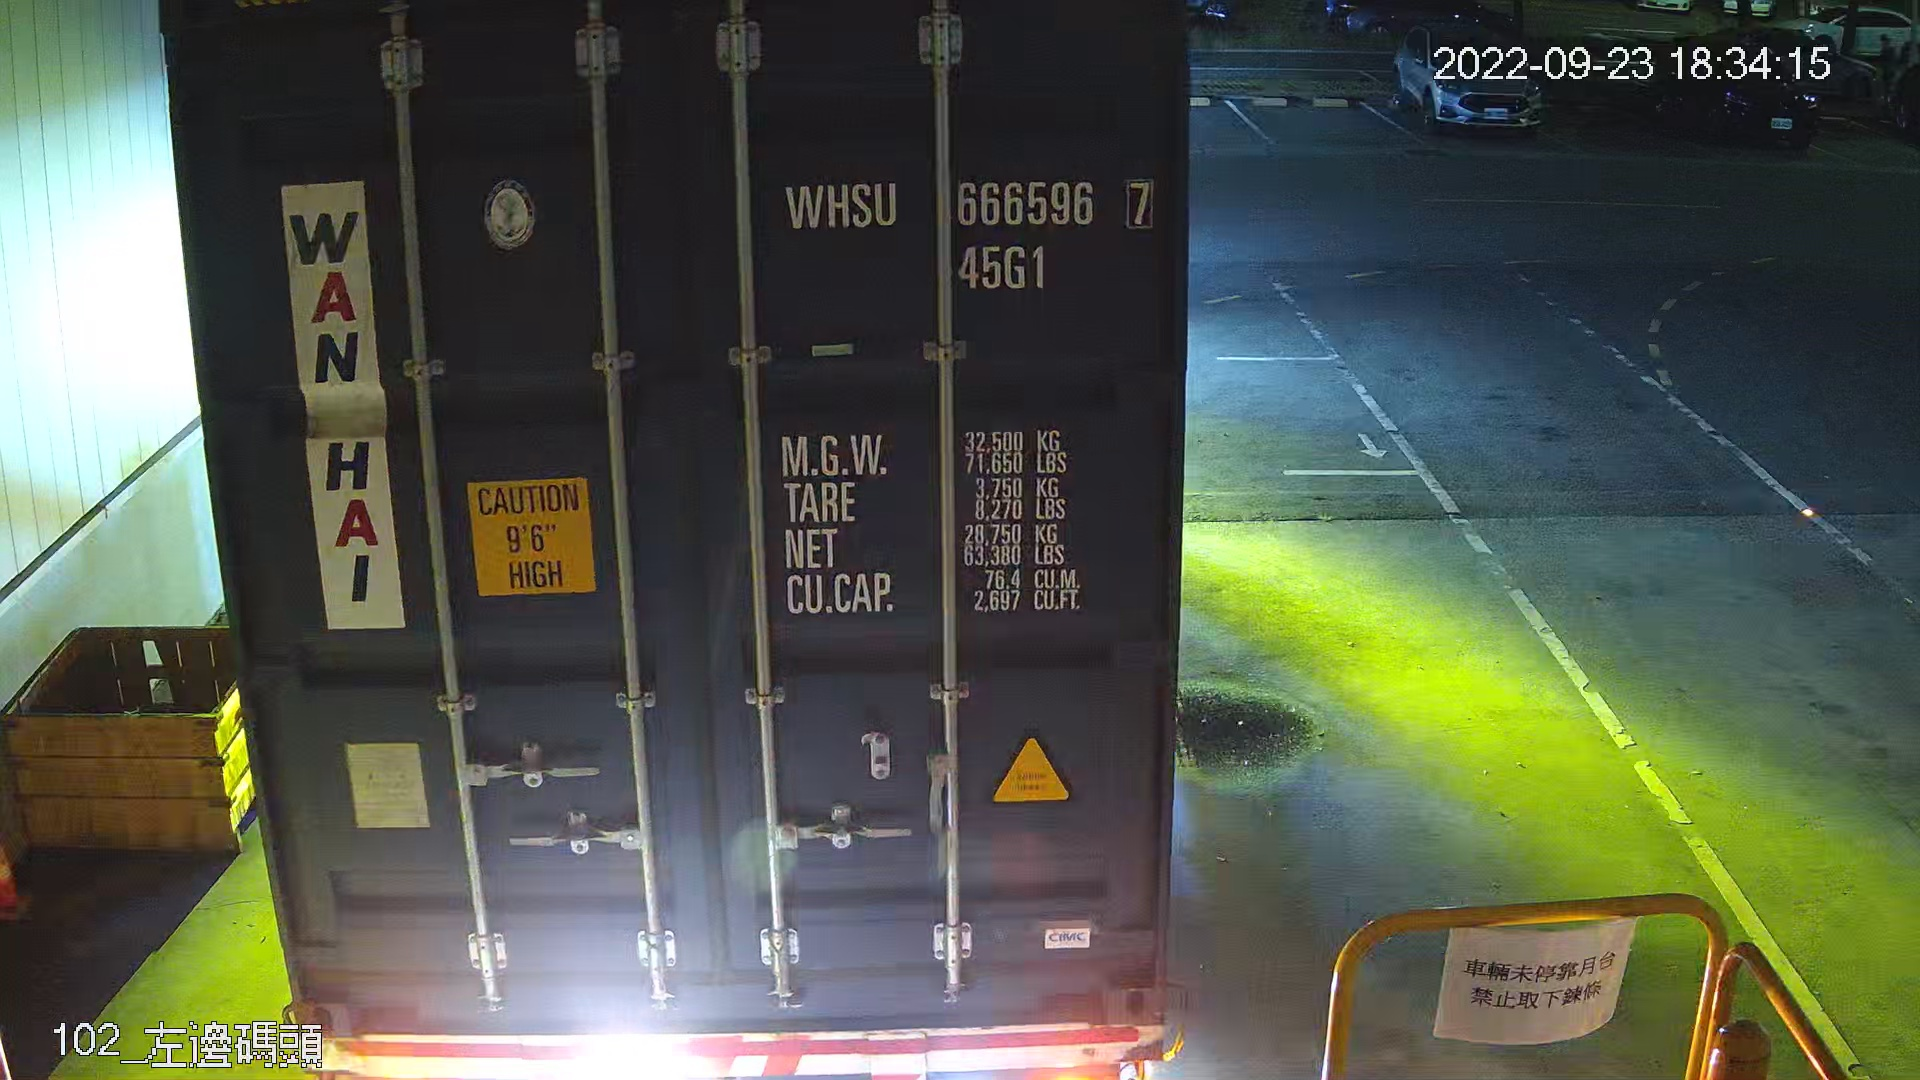container: (766, 160, 1163, 299)
